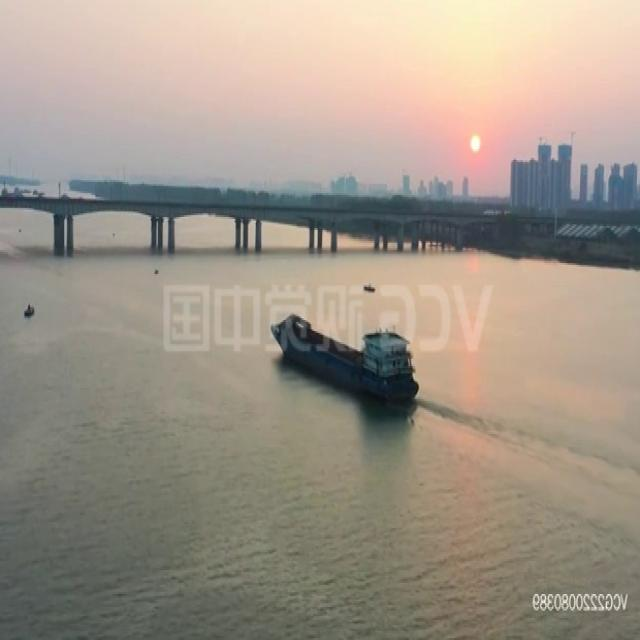cargoship: (275, 312, 409, 414)
